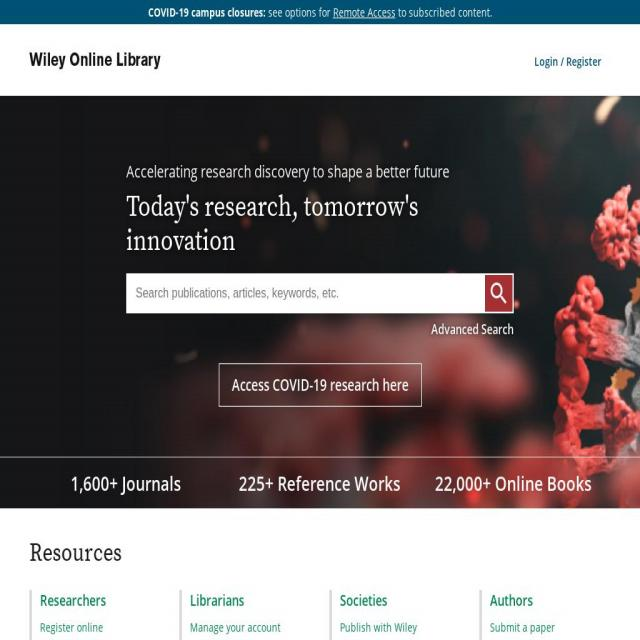login-option: (529, 47, 606, 75)
navigation-blocks: (22, 586, 609, 640)
search: (118, 270, 522, 348)
sign-up-option: (525, 42, 616, 82)
